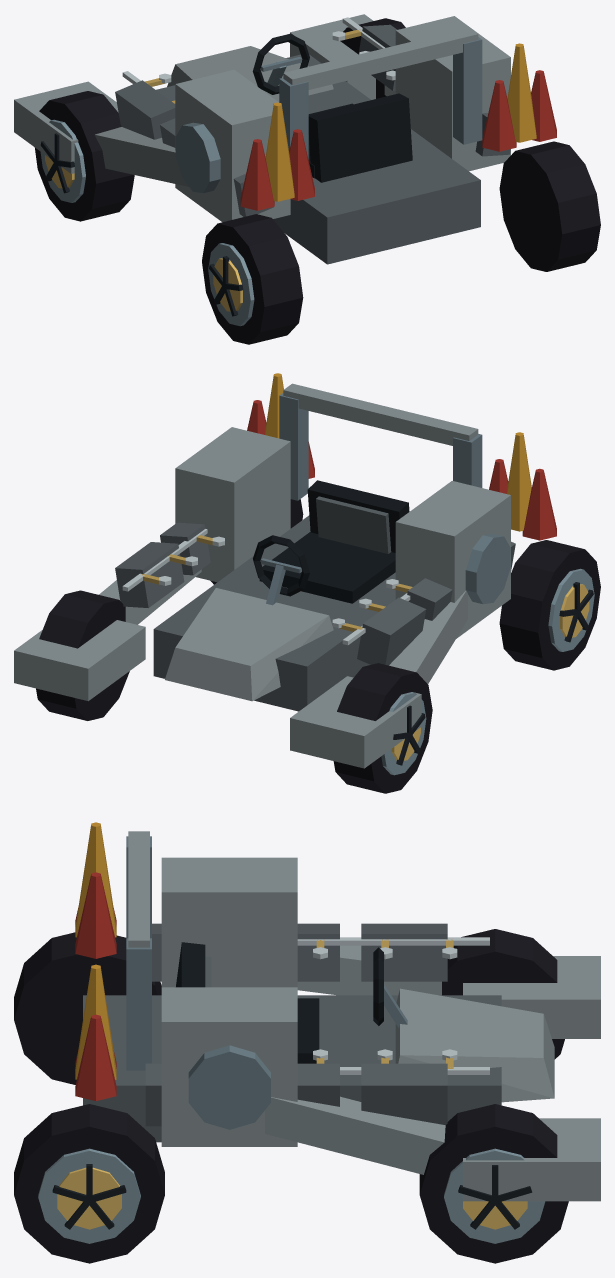
The model's file is kart.glb.
3 renders of one model, top to bottom at view 1: azimuth 30°, elevation 25°; view 2: azimuth 150°, elevation 25°; view 3: azimuth 270°, elevation 25°, orthographic. The views are drawn at different scales.
Visible parts, largest first — view 1: identity-mech-mech-articulated-limbs-and-open-harness, wheel-rear-left, wheel-rear-right, identity-mech-motif-fire, identity-mech-driver-cockpit, wheel-front-left, identity-mech-motif-armor, identity-mech-motif-circuit, wheel-front-right; view 2: identity-mech-mech-articulated-limbs-and-open-harness, identity-mech-driver-cockpit, wheel-rear-left, identity-mech-motif-armor, wheel-front-left, identity-mech-motif-fire, wheel-front-right, identity-mech-motif-circuit; view 3: identity-mech-mech-articulated-limbs-and-open-harness, wheel-rear-right, wheel-front-right, identity-mech-motif-armor, wheel-rear-left, identity-mech-motif-fire, wheel-front-left, identity-mech-driver-cockpit, identity-mech-motif-circuit.
Boxes of the visible parts, left/top/right/bottom form: identity-mech-mech-articulated-limbs-and-open-harness: left=14, top=14, right=510, bottom=264; wheel-rear-left: left=202, top=214, right=303, bottom=344; wheel-rear-right: left=499, top=141, right=600, bottom=271; identity-mech-motif-fire: left=240, top=43, right=556, bottom=210; identity-mech-driver-cockpit: left=252, top=33, right=412, bottom=182; wheel-front-left: left=34, top=91, right=134, bottom=221; identity-mech-motif-armor: left=115, top=24, right=510, bottom=216; identity-mech-motif-circuit: left=122, top=17, right=395, bottom=103; wheel-front-right: left=340, top=18, right=405, bottom=98; identity-mech-mech-articulated-limbs-and-open-harness: left=14, top=383, right=510, bottom=768; identity-mech-driver-cockpit: left=253, top=480, right=409, bottom=605; wheel-rear-left: left=499, top=540, right=600, bottom=670; identity-mech-motif-armor: left=115, top=522, right=515, bottom=665; wheel-front-left: left=333, top=663, right=432, bottom=793; identity-mech-motif-fire: left=247, top=373, right=556, bottom=540; wheel-front-right: left=36, top=590, right=129, bottom=720; identity-mech-motif-circuit: left=122, top=529, right=412, bottom=645; identity-mech-mech-articulated-limbs-and-open-harness: left=83, top=831, right=600, bottom=1201; wheel-rear-right: left=14, top=1104, right=164, bottom=1263; wheel-front-right: left=419, top=1104, right=568, bottom=1263; identity-mech-motif-armor: left=145, top=923, right=447, bottom=1126; wheel-rear-left: left=14, top=932, right=161, bottom=1084; identity-mech-motif-fire: left=75, top=822, right=116, bottom=1100; wheel-front-left: left=442, top=929, right=564, bottom=1059; identity-mech-driver-cockpit: left=176, top=942, right=407, bottom=1063; identity-mech-motif-circuit: left=297, top=937, right=489, bottom=1074.
Bounding box in the file's own units: 2.29 × 1.42 × 2.72.
